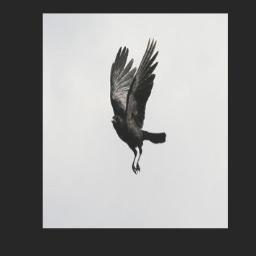Crow: (109, 36, 167, 177)
